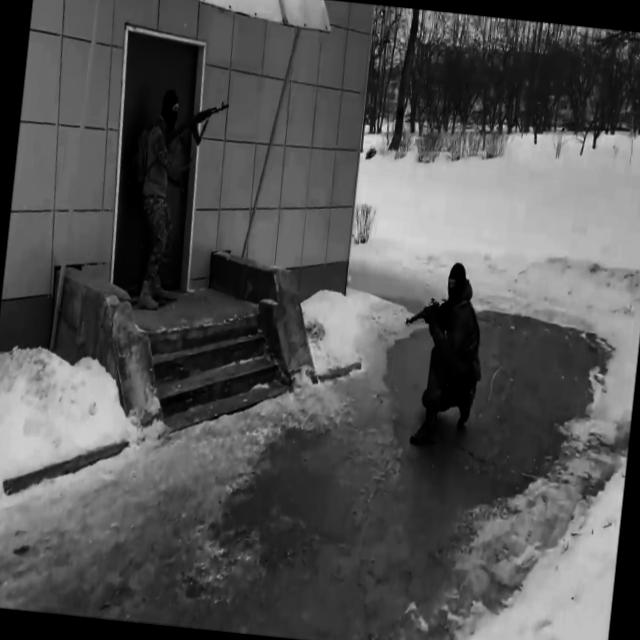gun: (163, 95, 229, 154), (404, 293, 449, 331)
person with a gun: (130, 86, 230, 316), (392, 257, 492, 451)
